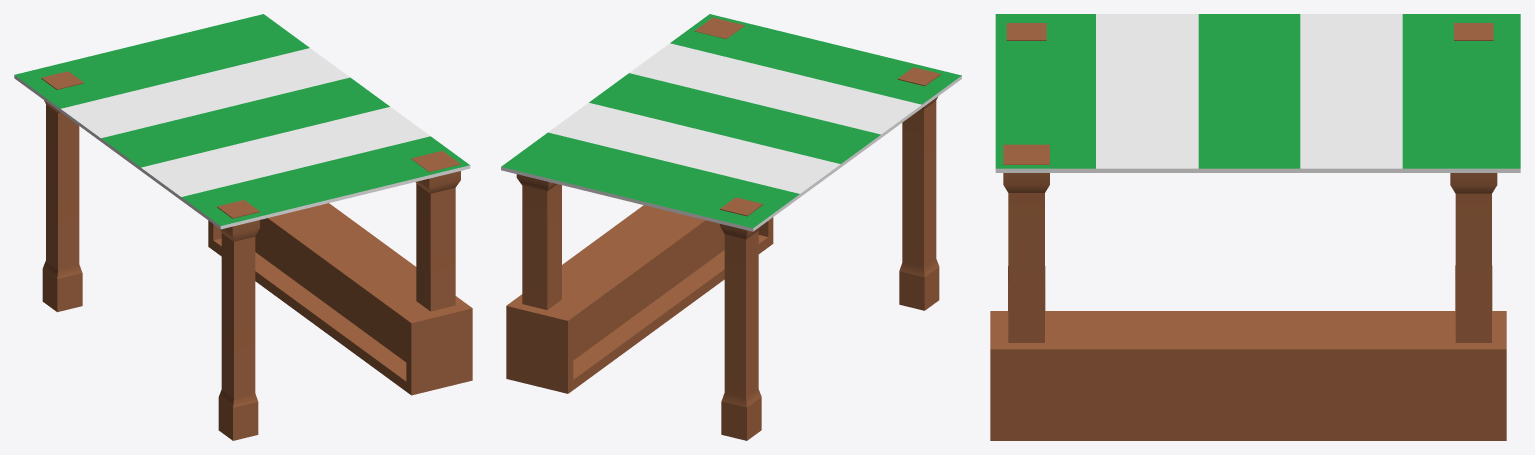
The model's file is model_shopStand3.fbx.
3 views of the same model, side by side, from view 1: azimuth 30°, elevation 25°; view 2: azimuth 150°, elevation 25°; view 3: azimuth 270°, elevation 25° (orthographic). The views are drawn at different scales.
Visible parts, largest first — view 1: polySurface1; view 2: polySurface1; view 3: polySurface1.
Boxes of the visible parts, x1,y1,x2,y2 form: polySurface1: [14, 14, 472, 440]; polySurface1: [501, 14, 961, 440]; polySurface1: [990, 14, 1520, 440].
Size of the model in its own units: 3.62 by 3.1 by 5.24.
